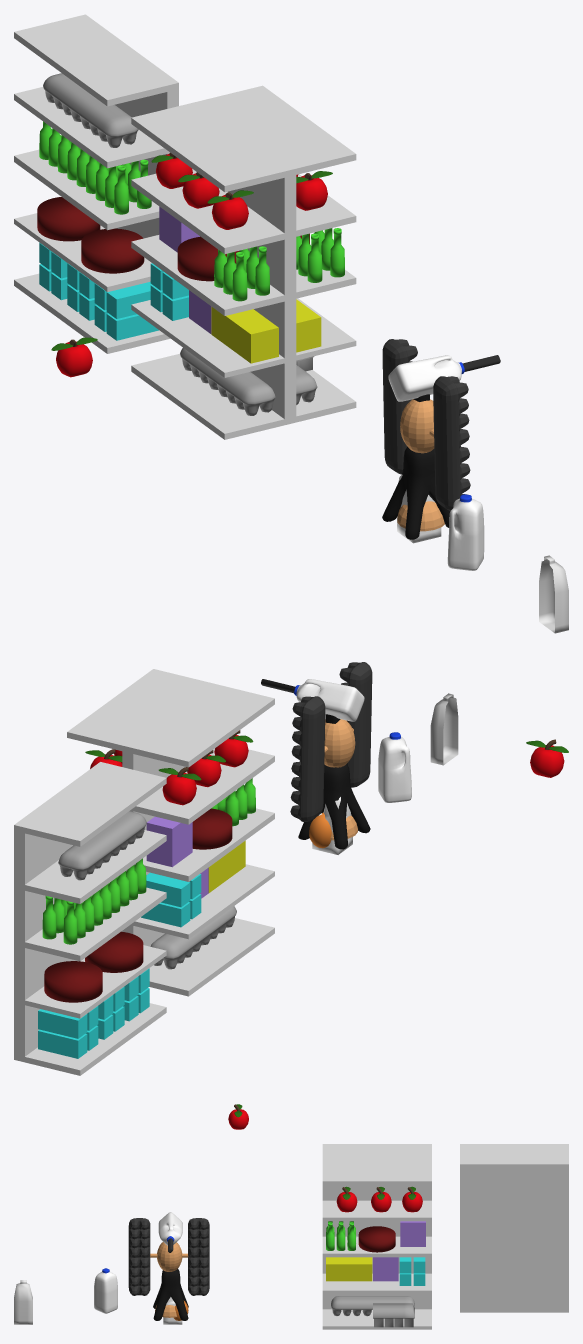
The model's file is MilkGun.fbx.
3 views of the same model, one above another, from view 1: azimuth 30°, elevation 25°; view 2: azimuth 150°, elevation 25°; view 3: azimuth 270°, elevation 25° (orthographic). The views are drawn at different scales.
Parts seen in each view (by area): view 1: ShelfDouble, ShelfSingle, egg_carton.001, MilkStand, egg_carton.002, MilkCanon, MIlkBUllet, egg_canon, Cube.001, apple.006; view 2: ShelfSingle, ShelfDouble, egg_carton.002, MilkStand, egg_carton.001, MIlkBUllet, MilkCanon, Cube.001, egg_canon, apple.006, Egg; view 3: ShelfDouble, ShelfSingle, egg_carton.001, egg_carton.002, MilkStand, egg_carton.003, MIlkBUllet, egg_canon, Cube.001, MilkCanon, apple.006.
Boxes of the visible parts, x1,y1,x2,y2 form: ShelfDouble: (131,85,356,439); ShelfSingle: (14,14,178,353); egg_carton.001: (433,376,470,511); MilkStand: (382,394,450,539); egg_carton.002: (382,339,417,474); MilkCanon: (388,355,500,401); MIlkBUllet: (447,494,484,570); egg_canon: (397,399,444,531); Cube.001: (539,555,568,633); apple.006: (51,337,97,377); ShelfSingle: (14,762,166,1075); ShelfDouble: (67,669,274,996); egg_carton.002: (290,696,325,821); MilkStand: (298,714,370,849); egg_carton.001: (339,662,372,787); MIlkBUllet: (378,732,411,802); MilkCanon: (261,679,364,721); Cube.001: (430,693,458,765); egg_canon: (324,719,357,840); apple.006: (526,739,568,777); Egg: (309,812,331,848); ShelfDouble: (322,1144,431,1329); ShelfSingle: (460,1144,568,1312); egg_carton.001: (128,1218,150,1295); egg_carton.002: (188,1218,209,1295); MilkStand: (153,1269,188,1320); egg_carton.003: (373,1303,414,1327); MIlkBUllet: (94,1268,117,1313); egg_canon: (150,1242,188,1317); Cube.001: (14,1280,32,1324); MilkCanon: (158,1212,182,1252); apple.006: (228,1104,248,1129).
Bounding box in the file's own units: 2791 × 1852 × 5903.
